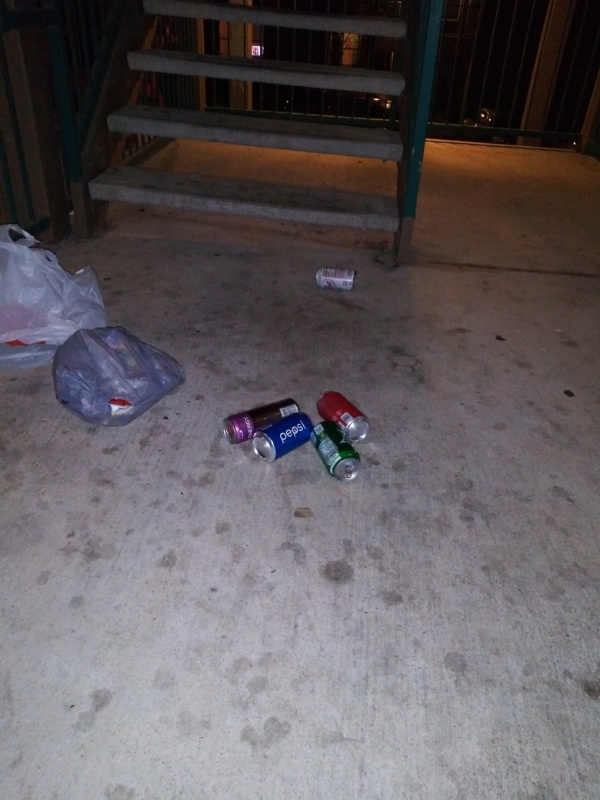can: (215, 397, 299, 444), (309, 420, 364, 482), (313, 388, 370, 443), (254, 410, 313, 463), (310, 264, 362, 293)
